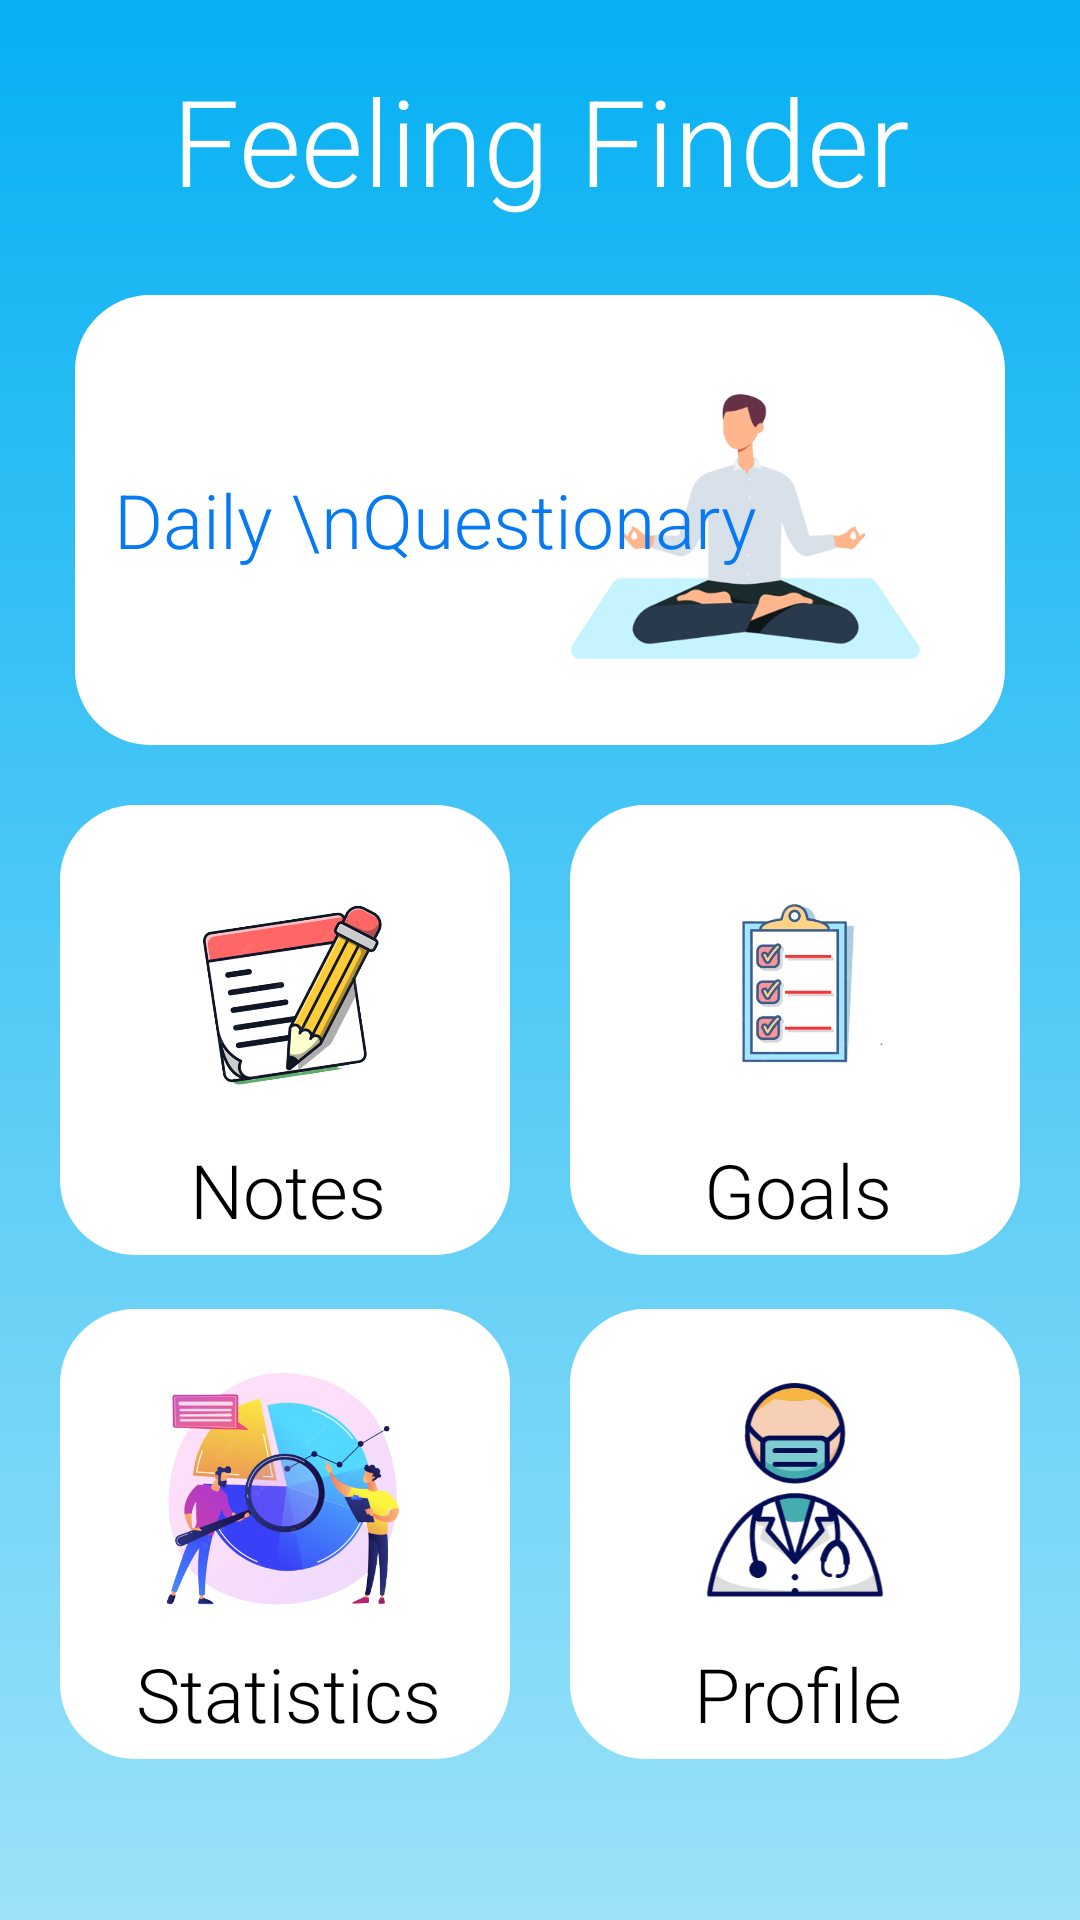

Icon click points for this 1080px x 1920px phone screenshot, format [x,y]:
doctransparent: [795,1490]
to do: [812,983]
